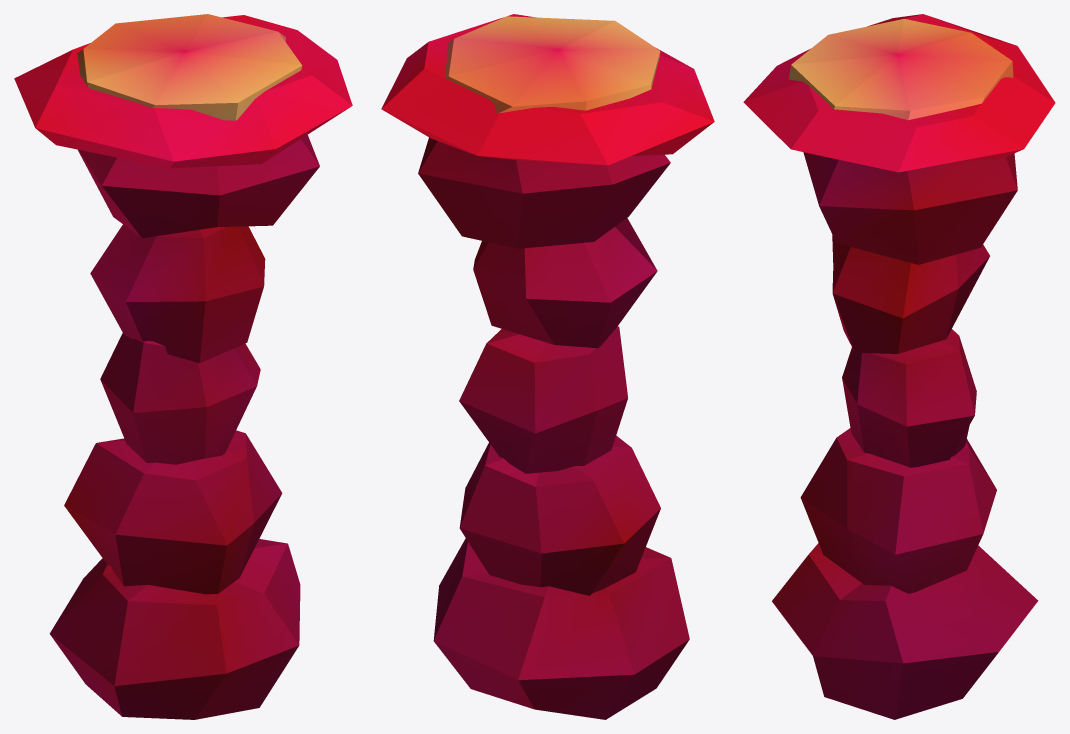
Rendered from Hoodoo_01.glb.
3 views of the same model, side by side, from view 1: azimuth 30°, elevation 25°; view 2: azimuth 150°, elevation 25°; view 3: azimuth 270°, elevation 25° (orthographic). The views are drawn at different scales.
Visible parts, largest first — view 1: Hoodoo_01; view 2: Hoodoo_01; view 3: Hoodoo_01.
Part boxes in pixels (x1,y1,x2,y2): Hoodoo_01: (14,14,352,719); Hoodoo_01: (381,14,714,719); Hoodoo_01: (743,14,1055,719).
Size of the model in its own units: 3.51 by 7.07 by 3.18.
